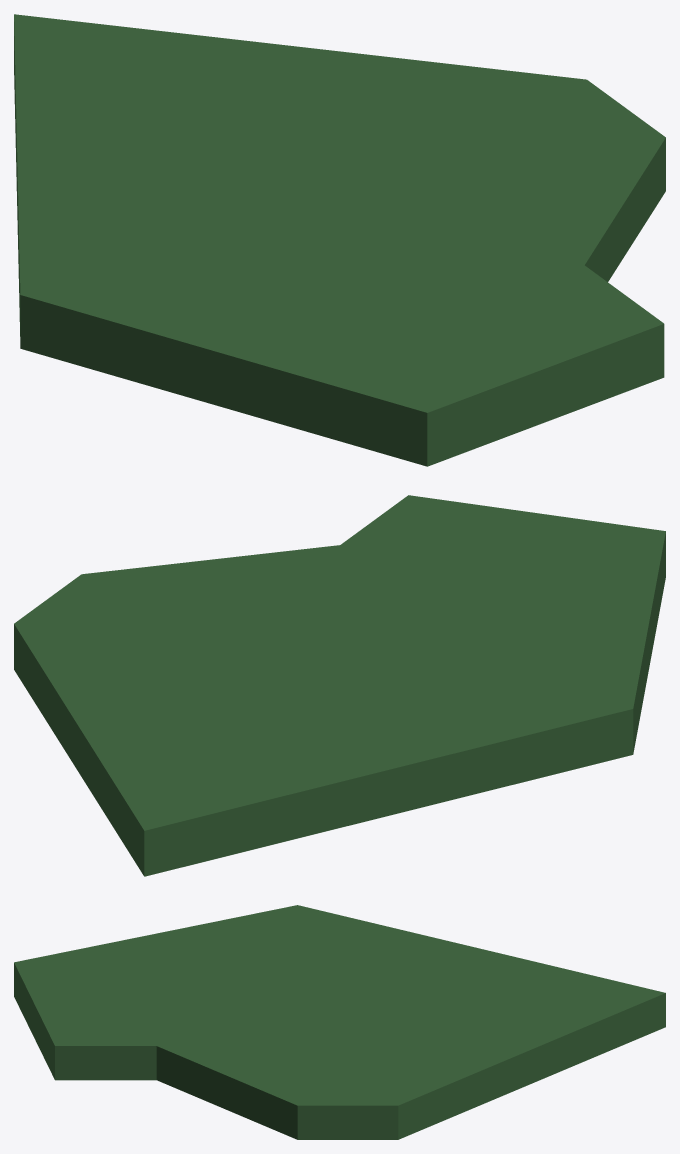
The model's file is x_proval_00_199_1_rmstrd.fbx.
3 views of the same model, one above another, from view 1: azimuth 30°, elevation 25°; view 2: azimuth 150°, elevation 25°; view 3: azimuth 270°, elevation 25° (orthographic). The views are drawn at different scales.
Visible parts, largest first — view 1: x_proval_00_199_1_rmstrd1; view 2: x_proval_00_199_1_rmstrd1; view 3: x_proval_00_199_1_rmstrd1.
Boxes of the visible parts, x1,y1,x2,y2 form: x_proval_00_199_1_rmstrd1: [14, 14, 665, 466]; x_proval_00_199_1_rmstrd1: [14, 495, 665, 876]; x_proval_00_199_1_rmstrd1: [14, 905, 665, 1139].
Size of the model in its own units: 2.51 by 0.2 by 3.45.
